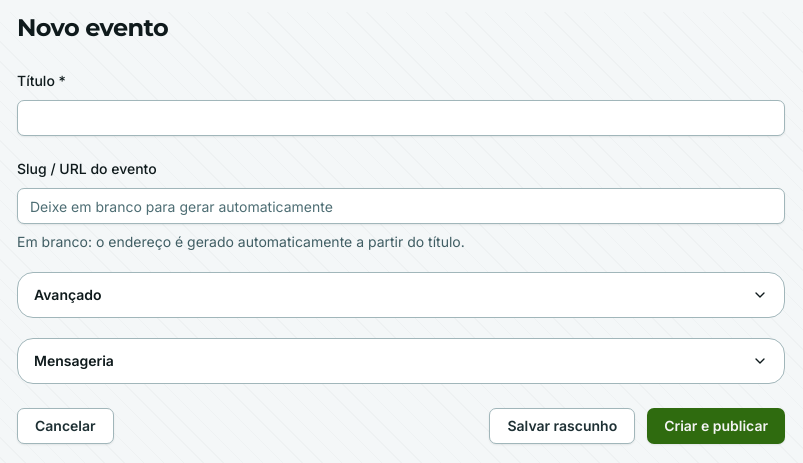
Test: Novo evento — slug › sugere o slug a partir do título e mostra a prévia da URL
Type "Meu Evento Incrível" into the field labelled "Título *" at (401,118), box [17,100,785,136]
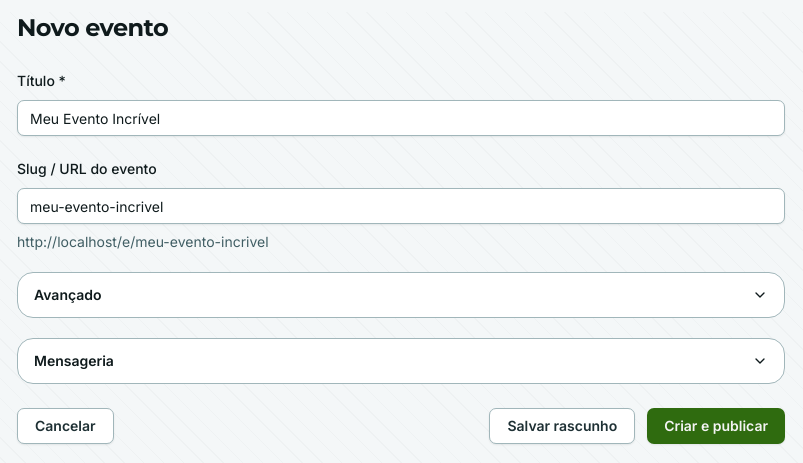
Expected: the field labelled "Slug / URL do evento" holds "meu-evento-incrivel", [17,188,785,224]
